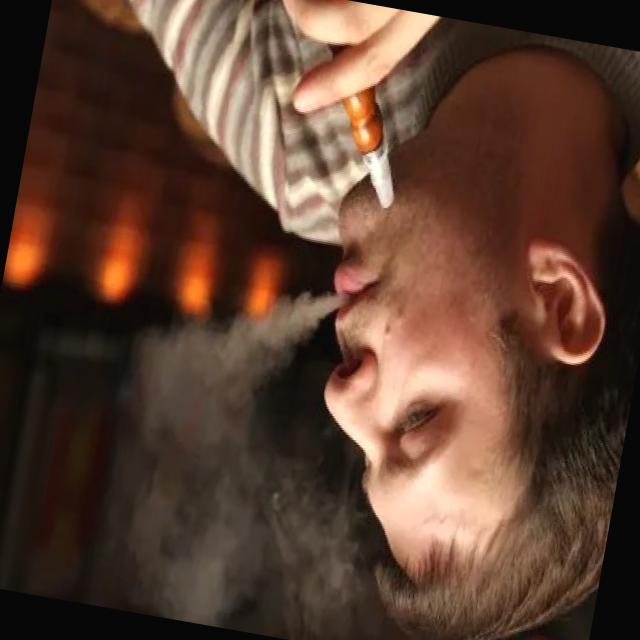smoke: (298, 39, 424, 220)
